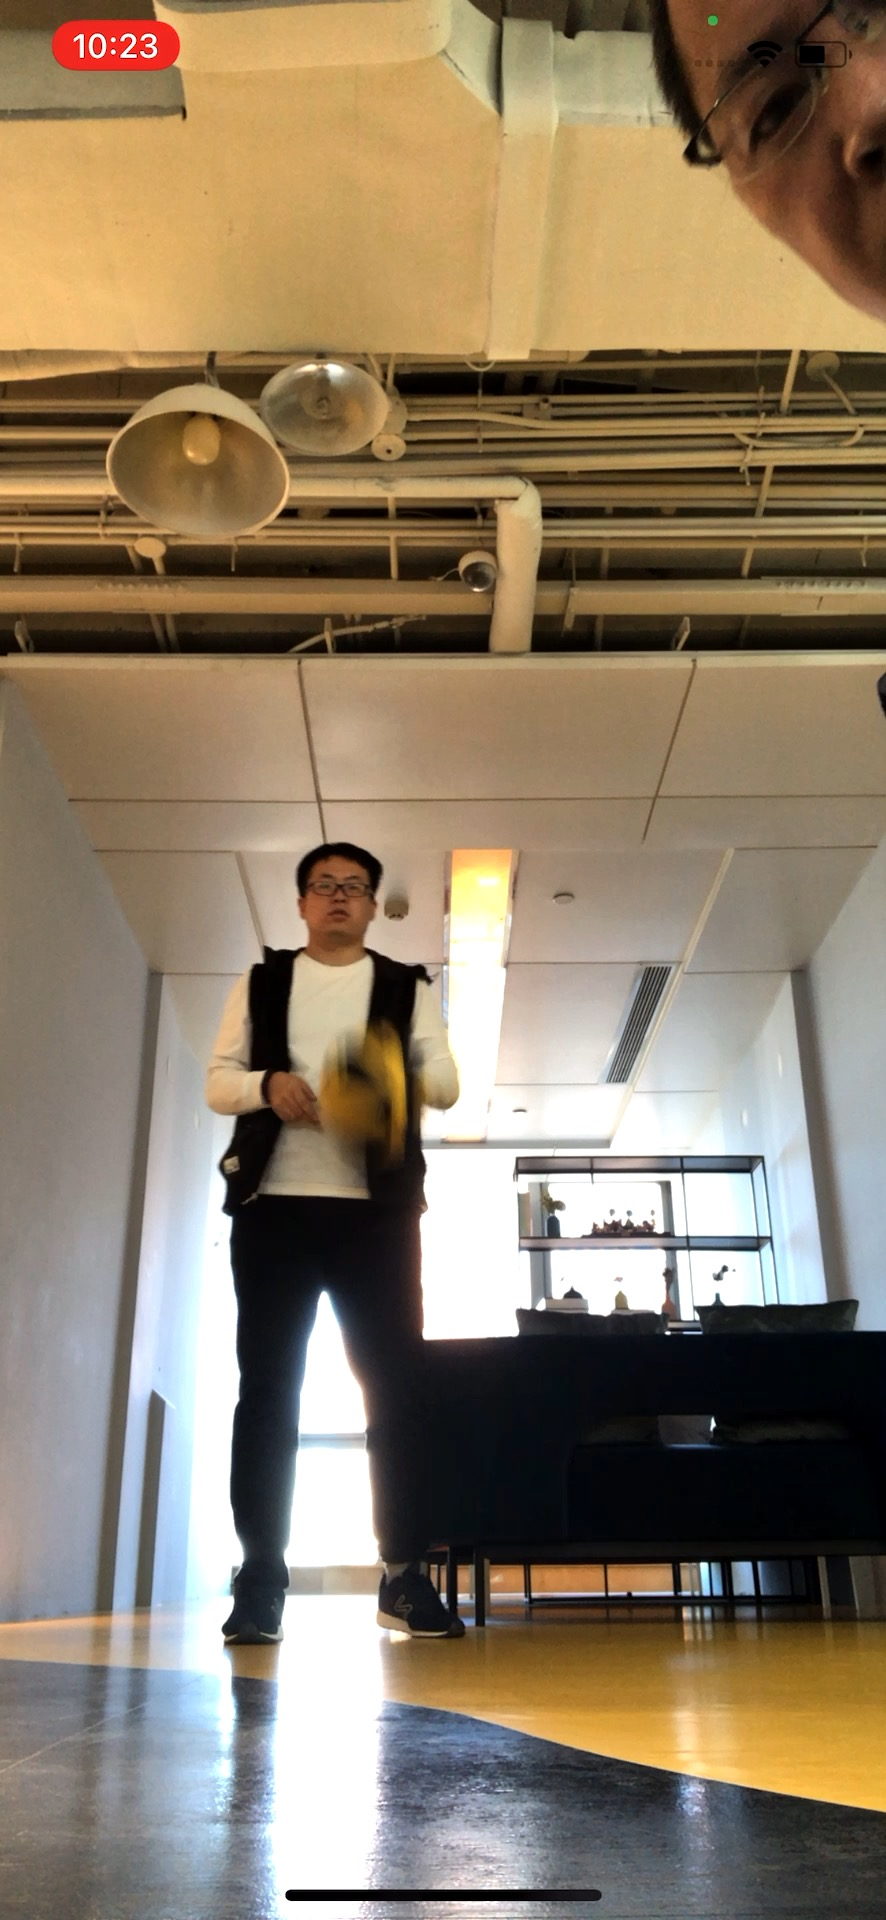ball: (321, 1037, 427, 1164)
